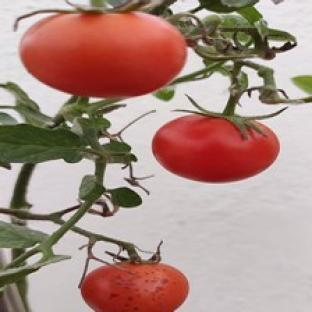Tomato: (20, 12, 186, 97), (152, 115, 279, 182), (81, 264, 189, 311)
